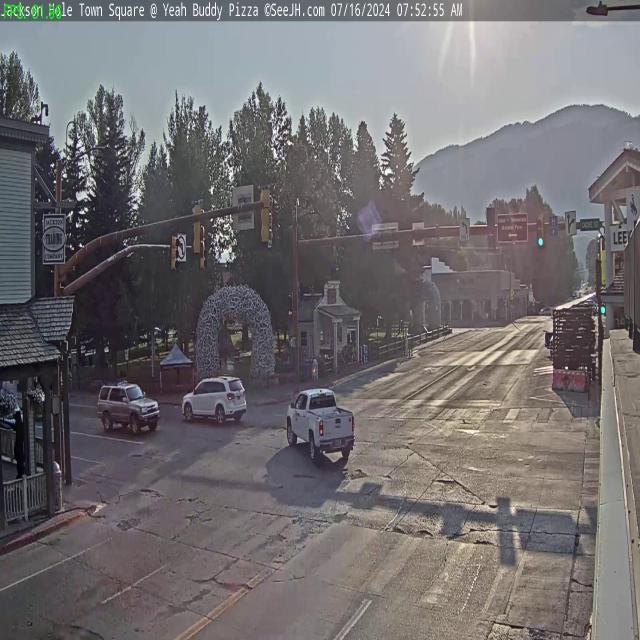pickup: (282, 382, 358, 472)
suv: (97, 378, 160, 436), (182, 374, 248, 428)
traffic light: (259, 184, 272, 243), (190, 199, 203, 256), (486, 207, 497, 252), (170, 234, 180, 273), (536, 214, 546, 248)
